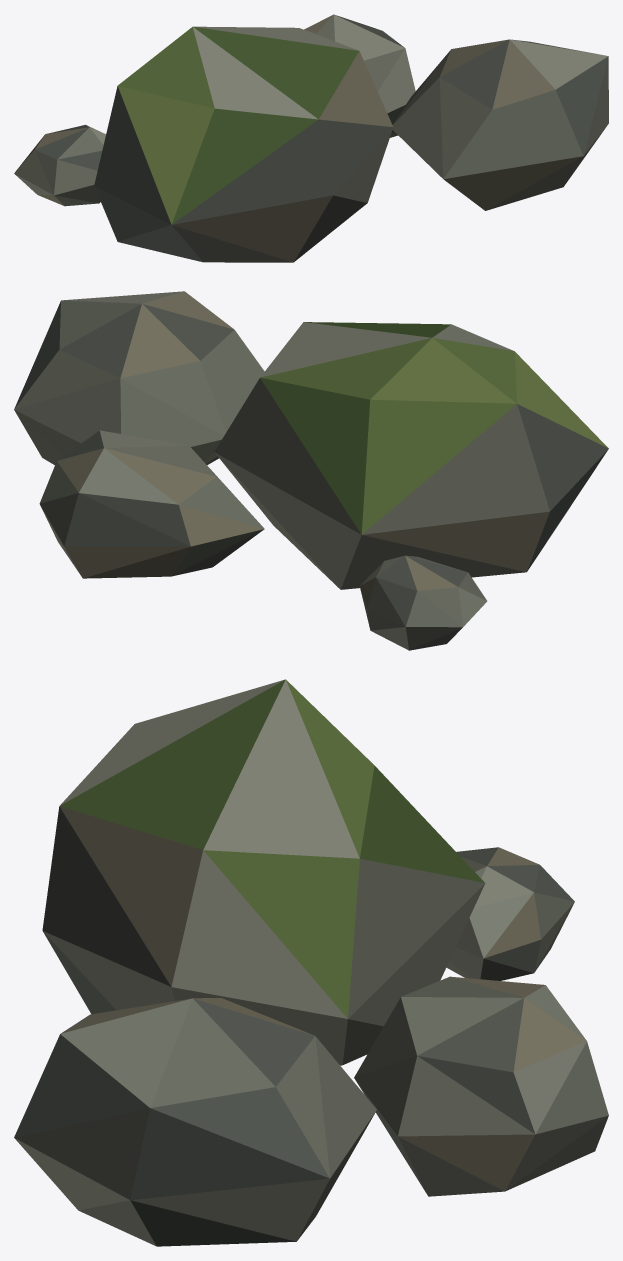
File: Rock_Cluster.obj
3 views of the same model, one above another, from view 1: azimuth 30°, elevation 25°; view 2: azimuth 150°, elevation 25°; view 3: azimuth 270°, elevation 25° (orthographic). The views are drawn at different scales.
Parts seen in each view (by area): view 1: Rock_Cluster; view 2: Rock_Cluster; view 3: Rock_Cluster.
Part boxes in pixels (box(x1,y1,x2,y2)): Rock_Cluster: box(14, 14, 608, 262); Rock_Cluster: box(14, 291, 608, 650); Rock_Cluster: box(14, 679, 608, 1246).
Size of the model in its own units: 2.03 by 0.8332 by 1.39.
Materials: 1 (1 with a texture image).
